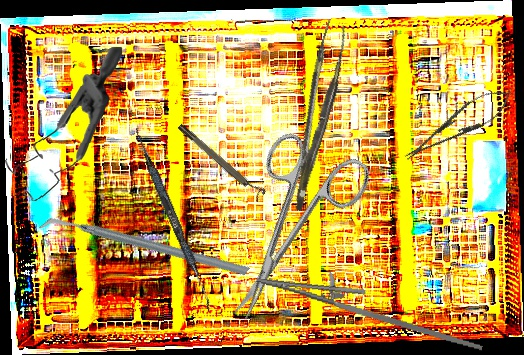Chopper: (39, 150, 250, 346)
Fixation Ring: (175, 118, 268, 203)
Iris Scissors: (191, 120, 377, 341)
Needle Holder: (251, 260, 491, 351), (396, 78, 521, 171)
Spatula Surgical: (128, 127, 219, 312)
Speculum: (3, 41, 123, 206)
Tissue Forceps: (272, 18, 358, 212)
